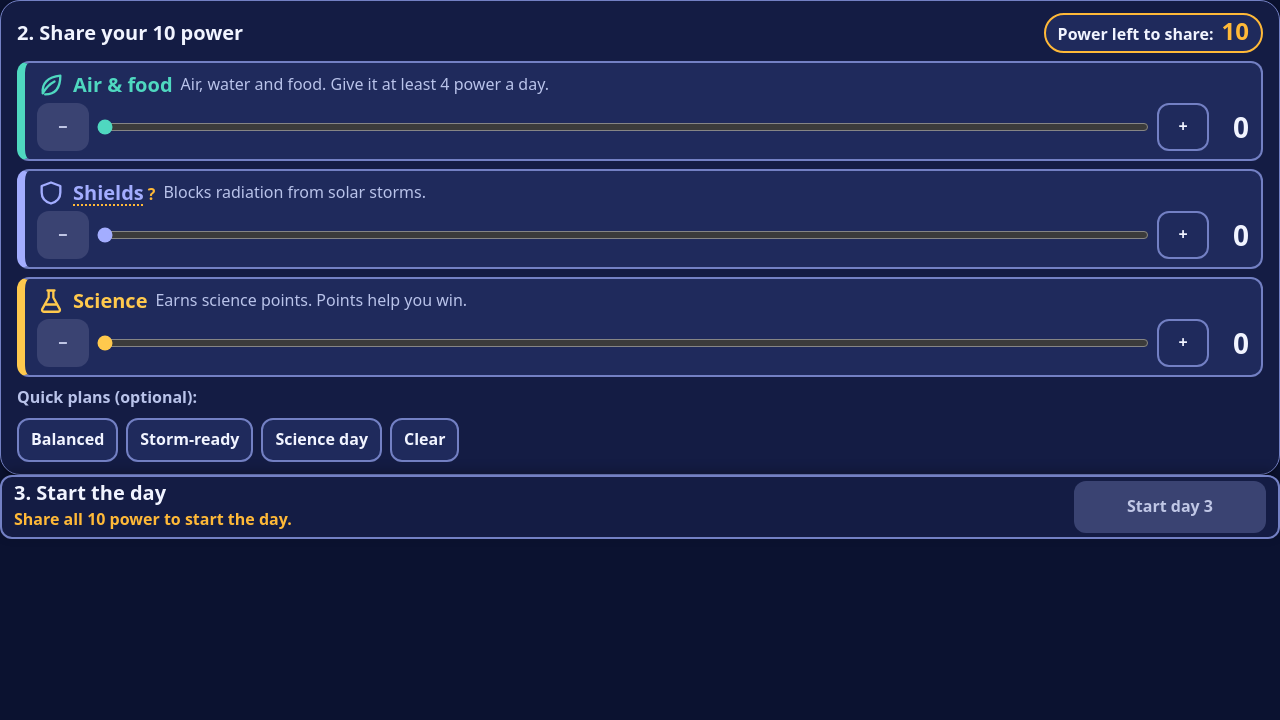
Test: PowerAllocator › makes Shields an inline glossary word
Click the button "Shields ?": (114, 193) [73, 181, 155, 205]
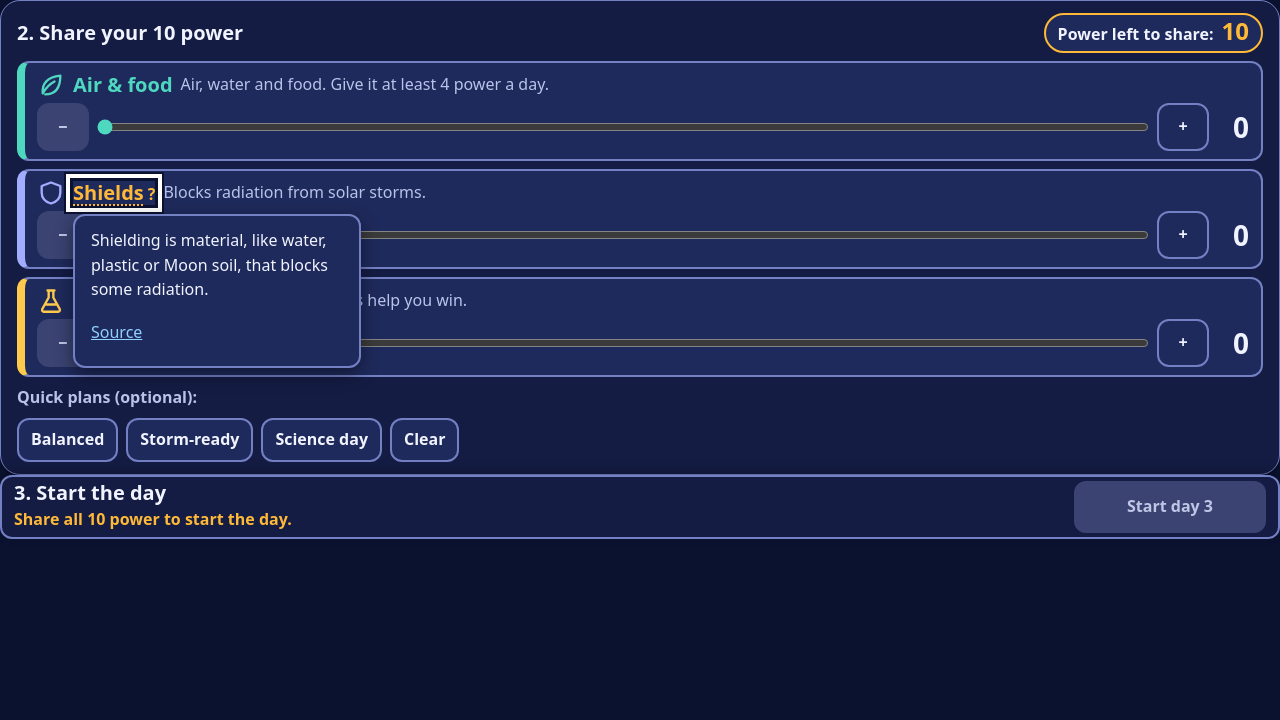
Now the button "Shields ?" is expanded, box [73, 181, 155, 205]
Now the element "Shielding" is shown, box [73, 214, 361, 368]
